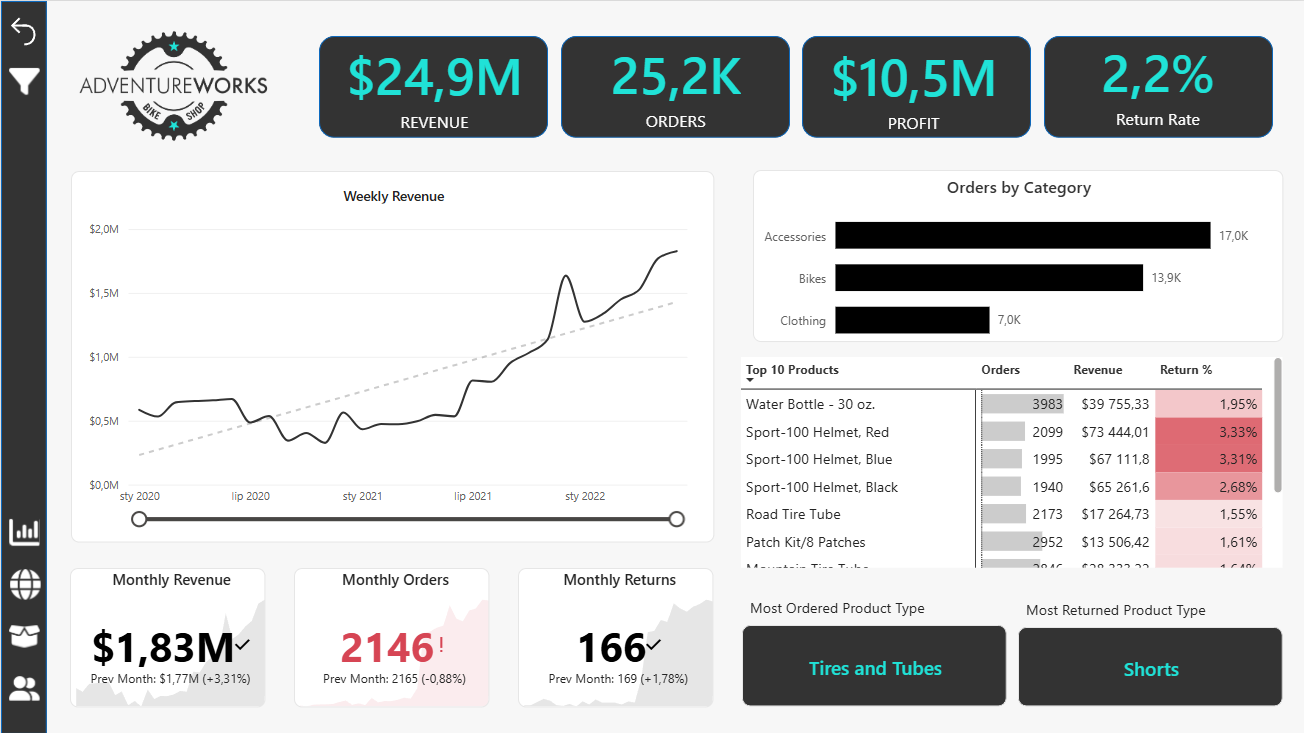

The dashboard page shown, as its layout file describes it:
{"tool":"powerbi","page":{"name":"Exec Dashboard","canvas":[1280,720],"ordinal":0},"visuals":[{"type":"image","title":"AW Logo","box":[57.1,0,225.7,167.1],"z":0},{"type":"cardVisual","fields":{"Data":["Measure Table.Total Revenue"]},"box":[317.4,30.8,217.3,106.4],"z":0,"group":"g2"},{"type":"shape","title":"Shape","box":[312.9,34.3,225,100],"z":0,"group":"g1"},{"type":"actionButton","box":[0.8,602.7,44.7,41],"z":0,"group":"g3"},{"type":"shape","box":[787.6,34.3,225,100],"z":1000,"group":"g1"},{"type":"cardVisual","fields":{"Data":["Measure Table.Total Orders"]},"box":[558.6,37.2,208.6,91.4],"z":1000,"group":"g2"},{"type":"actionButton","box":[1.4,551.8,43.5,41],"z":1000,"group":"g3"},{"type":"cardVisual","fields":{"Data":["Measure Table.Total Profit"]},"box":[778.6,34.1,237.1,100],"z":2000,"group":"g2"},{"type":"shape","box":[550.2,34.3,225,100],"z":2000,"group":"g1"},{"type":"actionButton","box":[0.8,500.8,44.7,41],"z":2000,"group":"g3"},{"type":"shape","title":"Left Nav Background","box":[0,0,45,720],"z":3000},{"type":"cardVisual","fields":{"Data":["Measure Table.Return Rate"]},"box":[1048.6,28.6,177.1,104.3],"z":3000,"group":"g2"},{"type":"shape","box":[1024.9,34.3,225,100],"z":3000,"group":"g1"},{"type":"actionButton","box":[0.8,653.7,44.7,41],"z":3000,"group":"g3"},{"type":"group","id":"g1","title":"Background group","box":[312.9,34.3,937.1,100],"z":4000},{"type":"group","id":"g2","title":"KPI Values","box":[317.4,28.6,908.3,108.6],"z":5000},{"type":"lineChart","title":"Weekly Revenue","fields":{"Category":["Calendar Lookup.Date Hierarchy.Year","Calendar Lookup.Start of Quarter","Calendar Lookup.Start of Month"],"Y":["Measure Table.Total Revenue"]},"box":[68.4,166.6,632,365.1],"z":6000},{"type":"kpi","title":"Monthly Revenue","fields":{"Goal":["Measure Table.Previous Month Revenue"],"Indicator":["Measure Table.Total Revenue"],"TrendLine":["Calendar Lookup.Start of Month"]},"box":[67.9,557,192.4,137.1],"z":7000},{"type":"kpi","title":"Monthly Orders","fields":{"Goal":["Measure Table.Previous Month Orders"],"Indicator":["Measure Table.Total Orders"],"TrendLine":["Calendar Lookup.Start of Month"]},"box":[287.9,557,192.4,137.1],"z":8000},{"type":"kpi","title":"Monthly Returns","fields":{"Goal":["Measure Table.Previous Month Returns"],"Indicator":["Measure Table.Total Returns"],"TrendLine":["Calendar Lookup.Start of Month"]},"box":[508,557,192.4,137.1],"z":9000},{"type":"clusteredBarChart","title":"Orders by Category","fields":{"Category":["Product Category Lookup.CategoryName"],"Y":["Measure Table.Total Orders"]},"box":[738.3,166.4,520.9,169.5],"z":10000},{"type":"cardVisual","fields":{"Data":["Min(Product Subcategory Lookup.SubcategoryName)"]},"box":[727.8,612.6,260.1,81],"z":11000},{"type":"pivotTable","title":"Top 10 Products","fields":{"Rows":["Product Lookup.ProductName"],"Values":["Measure Table.Total Orders","Measure Table.Total Revenue","Measure Table.Return Rate"]},"box":[726.8,349.4,532.4,206.9],"z":12000},{"type":"textbox","box":[735.6,586.7,217.8,25.6],"z":13000},{"type":"cardVisual","fields":{"Data":["Min(Product Subcategory Lookup.SubcategoryName)"]},"box":[999.4,614.9,260.1,78.7],"z":14000},{"type":"textbox","box":[1006.7,588.9,217.8,25.6],"z":15000},{"type":"actionButton","box":[0,10.3,44.5,39.9],"z":16000},{"type":"group","id":"g3","title":"Nav buttons","box":[0.8,500.8,44.7,193.9],"z":17000},{"type":"actionButton","box":[1,59.3,44.7,39.5],"z":18000}]}

Visuals, with their boxes on the page's 1280x720 design canvas (x1, y1, x2, y2). These are canvas units, not pixel positions in the 1304x733 screenshot, which may show the page scaled, cropped or inside an application window:
"AW Logo" image: bbox=[57, 0, 283, 167]
cardVisual - Measure Table.Total Revenue: bbox=[317, 31, 535, 137]
"Shape" shape: bbox=[313, 34, 538, 134]
actionButton: bbox=[1, 603, 46, 644]
shape: bbox=[788, 34, 1013, 134]
cardVisual - Measure Table.Total Orders: bbox=[559, 37, 767, 129]
actionButton: bbox=[1, 552, 45, 593]
cardVisual - Measure Table.Total Profit: bbox=[779, 34, 1016, 134]
shape: bbox=[550, 34, 775, 134]
actionButton: bbox=[1, 501, 46, 542]
"Left Nav Background" shape: bbox=[0, 0, 45, 720]
cardVisual - Measure Table.Return Rate: bbox=[1049, 29, 1226, 133]
shape: bbox=[1025, 34, 1250, 134]
actionButton: bbox=[1, 654, 46, 695]
"Background group" group: bbox=[313, 34, 1250, 134]
"KPI Values" group: bbox=[317, 29, 1226, 137]
"Weekly Revenue" lineChart: bbox=[68, 167, 700, 532]
"Monthly Revenue" kpi: bbox=[68, 557, 260, 694]
"Monthly Orders" kpi: bbox=[288, 557, 480, 694]
"Monthly Returns" kpi: bbox=[508, 557, 700, 694]
"Orders by Category" clusteredBarChart: bbox=[738, 166, 1259, 336]
cardVisual - Min(Product Subcategory Lookup.SubcategoryName): bbox=[728, 613, 988, 694]
"Top 10 Products" pivotTable: bbox=[727, 349, 1259, 556]
textbox: bbox=[736, 587, 953, 612]
cardVisual - Min(Product Subcategory Lookup.SubcategoryName): bbox=[999, 615, 1260, 694]
textbox: bbox=[1007, 589, 1224, 614]
actionButton: bbox=[0, 10, 44, 50]
"Nav buttons" group: bbox=[1, 501, 46, 695]
actionButton: bbox=[1, 59, 46, 99]
